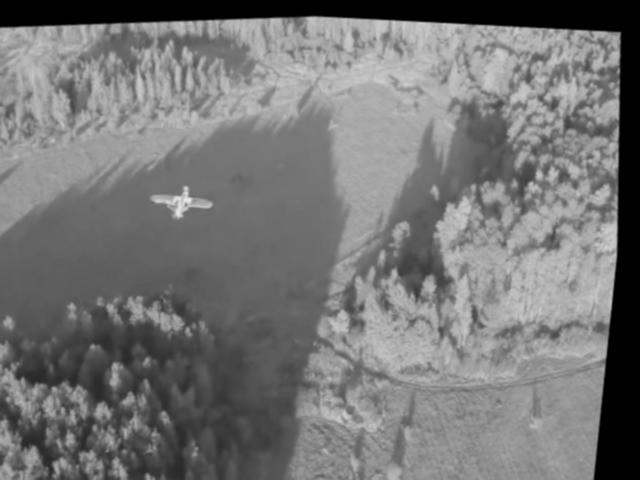hedef: (149, 174, 222, 228)
